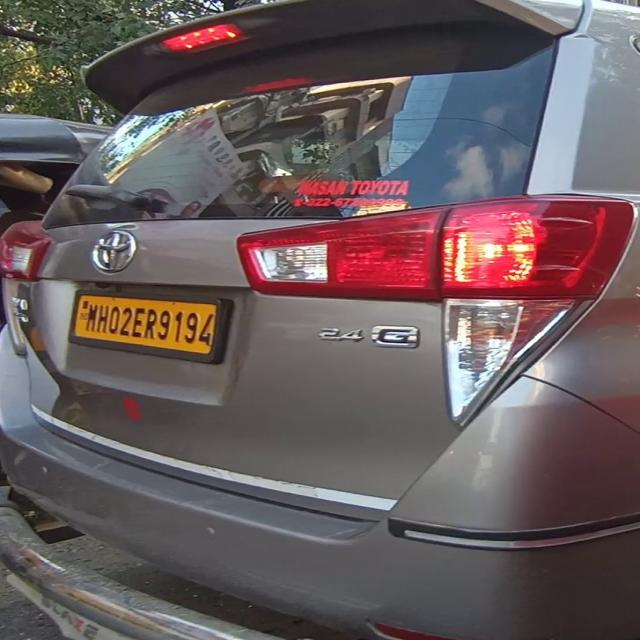Plate: (73, 294, 219, 357)
